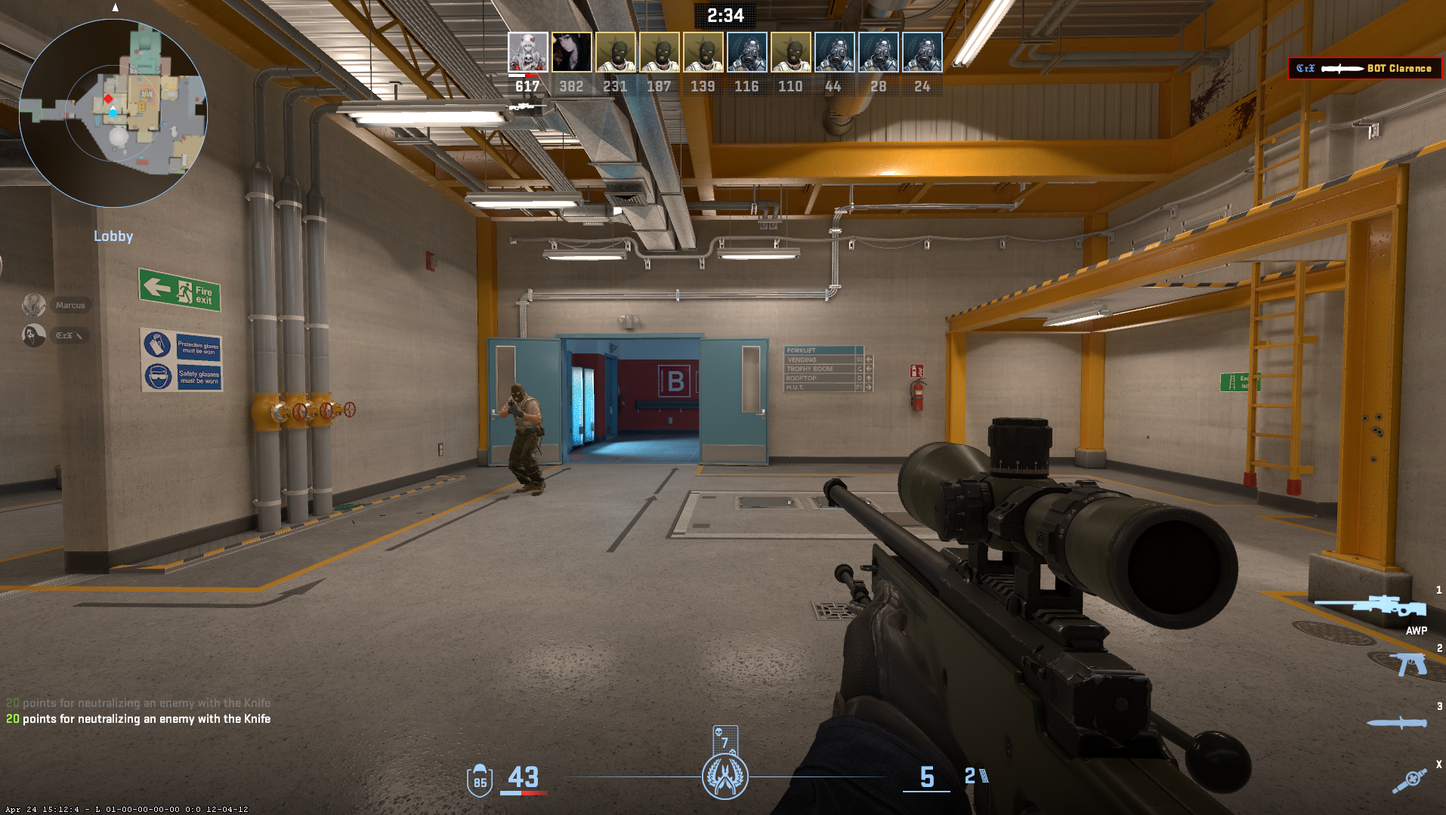T: (500, 383, 545, 496)
